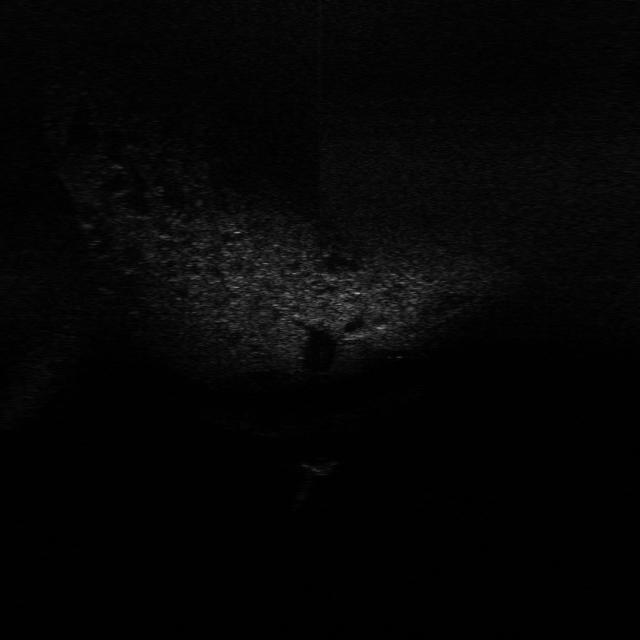cube: (297, 451, 339, 479)
